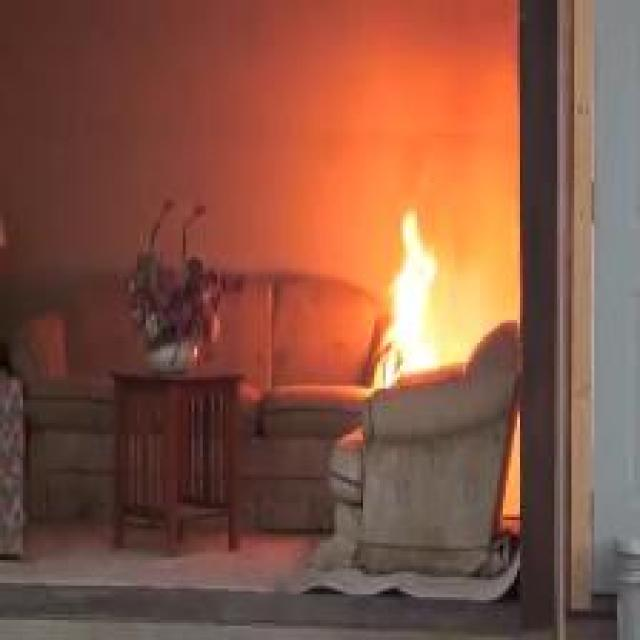fire: (386, 216, 451, 395)
